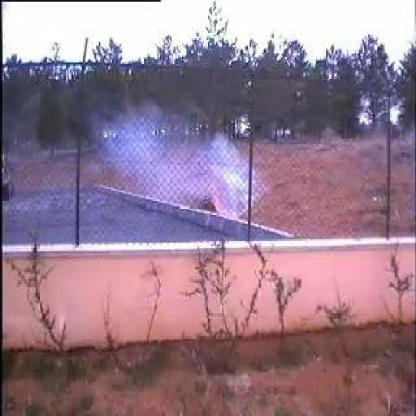-: (65, 106, 256, 239)
